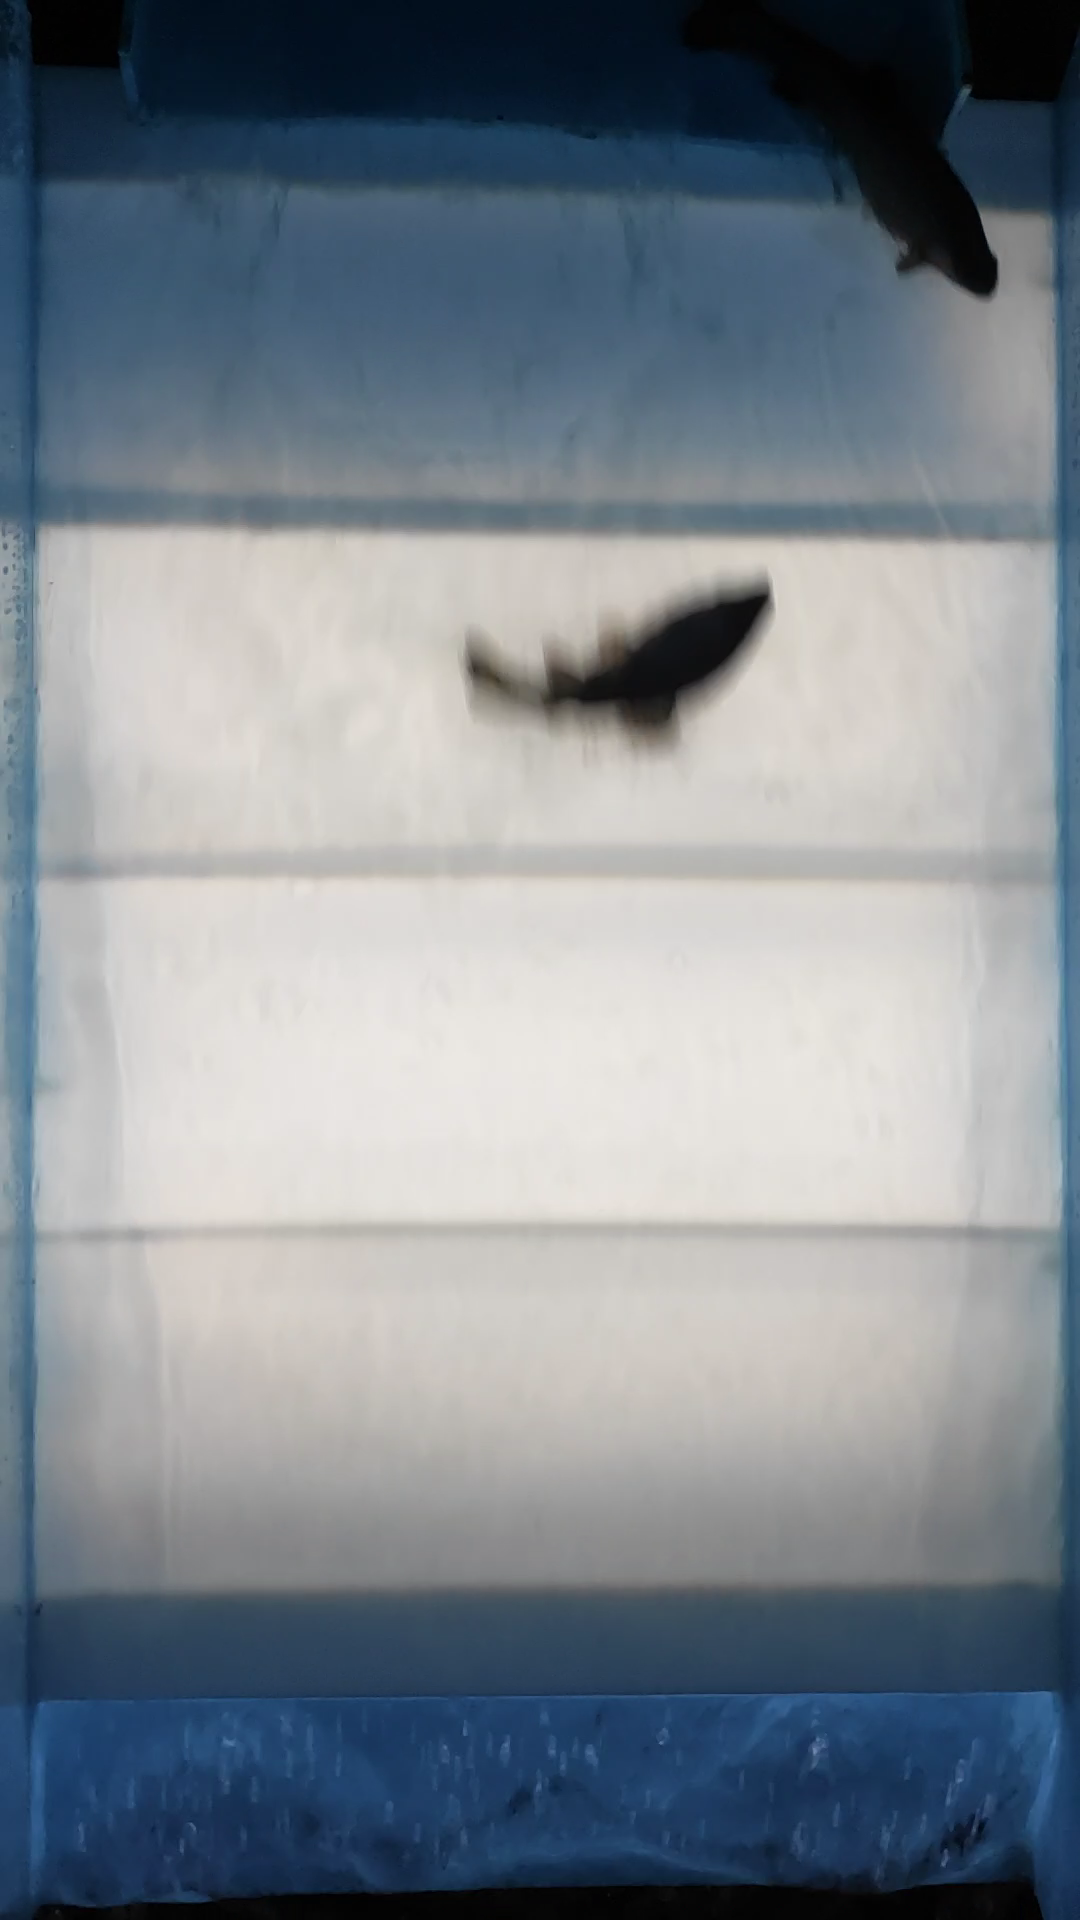fish: (673, 1, 996, 306), (458, 574, 778, 727)
